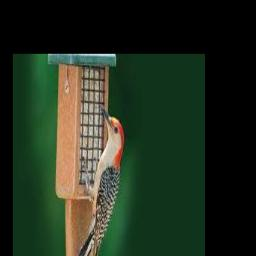Woodpecker: (74, 104, 124, 256)
